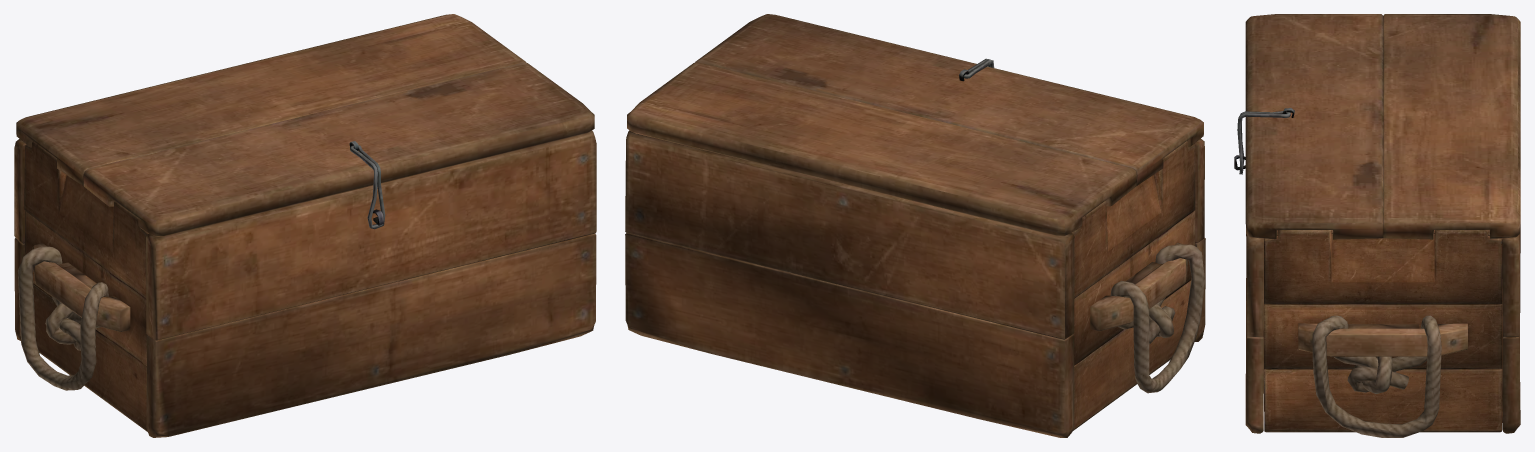
File: wooden_crate_01.glb
3 renders of one model, left to right at view 1: azimuth 30°, elevation 25°; view 2: azimuth 150°, elevation 25°; view 3: azimuth 270°, elevation 25°, orthographic. The views are drawn at different scales.
Visible parts, largest first — view 1: wooden_crate_01, wooden_crate_01_lid, wooden_crate_01_latch; view 2: wooden_crate_01, wooden_crate_01_lid; view 3: wooden_crate_01_lid, wooden_crate_01, wooden_crate_01_latch.
Boxes of the visible parts, x1,y1,x2,y2 form: wooden_crate_01: [14, 131, 596, 437]; wooden_crate_01_lid: [16, 14, 594, 236]; wooden_crate_01_latch: [350, 145, 385, 229]; wooden_crate_01: [625, 130, 1205, 437]; wooden_crate_01_lid: [627, 14, 1203, 236]; wooden_crate_01_lid: [1245, 14, 1520, 239]; wooden_crate_01: [1234, 155, 1520, 437]; wooden_crate_01_latch: [1237, 111, 1290, 174].
Size of the model in its own units: 0.8245 by 0.3495 by 0.407.
1 material, 1 textured.
